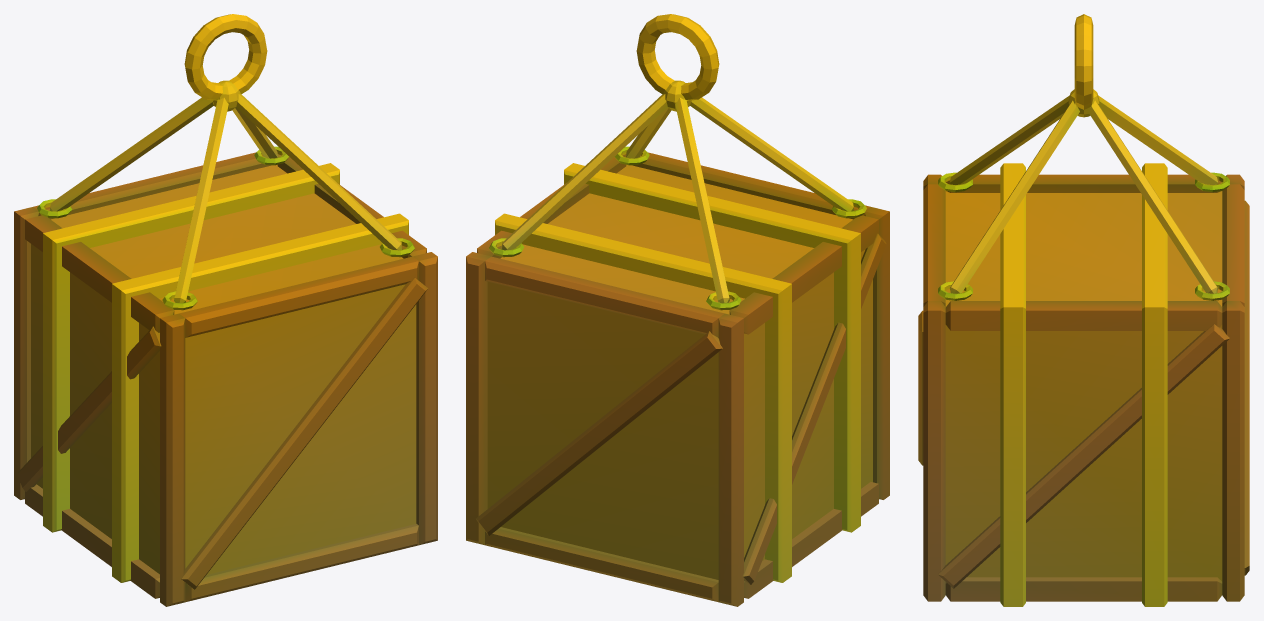
The model's file is Prop_CargoCrate.fbx.
3 renders of one model, left to right at view 1: azimuth 30°, elevation 25°; view 2: azimuth 150°, elevation 25°; view 3: azimuth 270°, elevation 25°, orthographic. The views are drawn at different scales.
Visible parts, largest first — view 1: Cargo; view 2: Cargo; view 3: Cargo.
Part boxes in pixels (<box>): Cargo: <box>14,14,437,606</box>; Cargo: <box>466,14,889,606</box>; Cargo: <box>918,14,1249,606</box>.
Bounding box in the file's own units: 1.06 × 1.77 × 1.03.
